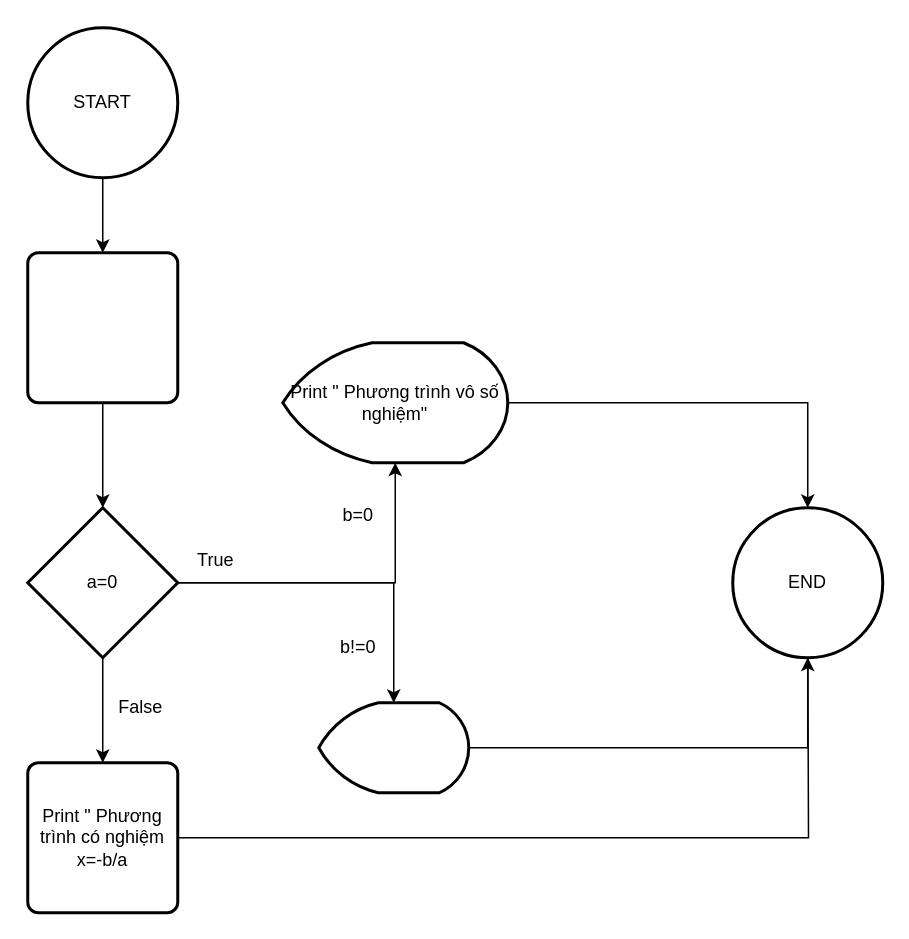
The diagram is 909 pixels wide and 939 high, and some of its shapes have lost their labels. The centre of each missing label's shape, as x and y in pixels:
Input a,b: (x=102, y=327)
Print " Phương trình vô nghiệm": (x=393, y=747)
